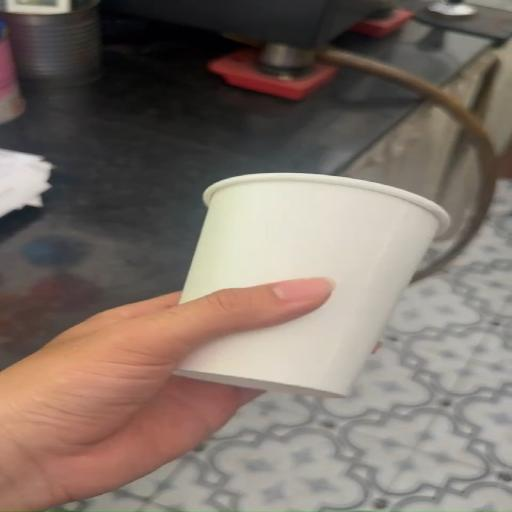Ly_giay: (176, 173, 449, 397)
